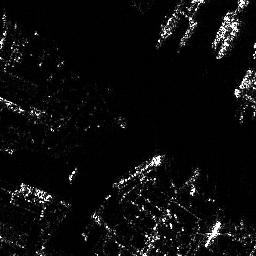ship: (110, 152, 166, 190), (216, 23, 241, 59), (212, 9, 232, 49), (18, 181, 52, 203), (233, 67, 252, 99)
